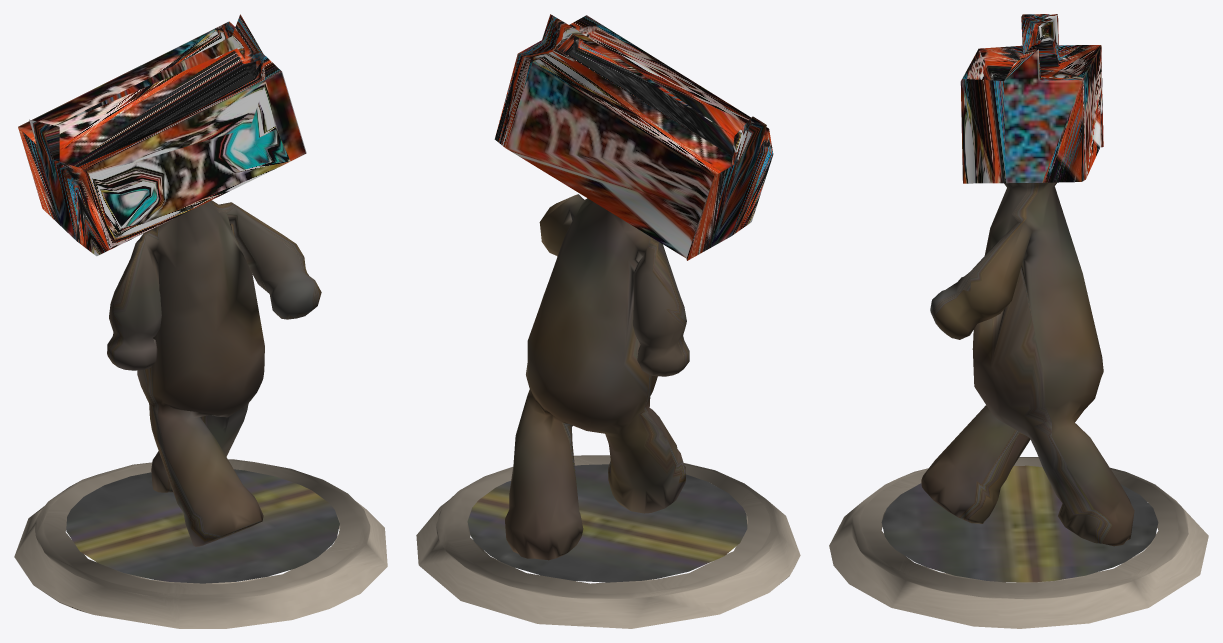
3 renders of one model, left to right at view 1: azimuth 30°, elevation 25°; view 2: azimuth 150°, elevation 25°; view 3: azimuth 270°, elevation 25°, orthographic. The views are drawn at different scales.
Size of the model in its own units: 1.45 by 2.19 by 1.44.
4 materials, 4 textured.
